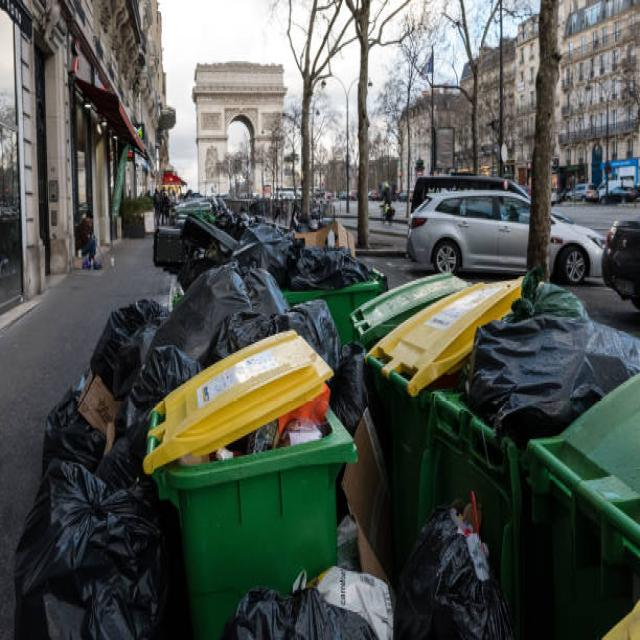cardboard: (345, 412, 404, 580), (74, 377, 129, 438), (288, 223, 356, 251)
trash: (30, 469, 158, 640), (122, 257, 342, 355)
